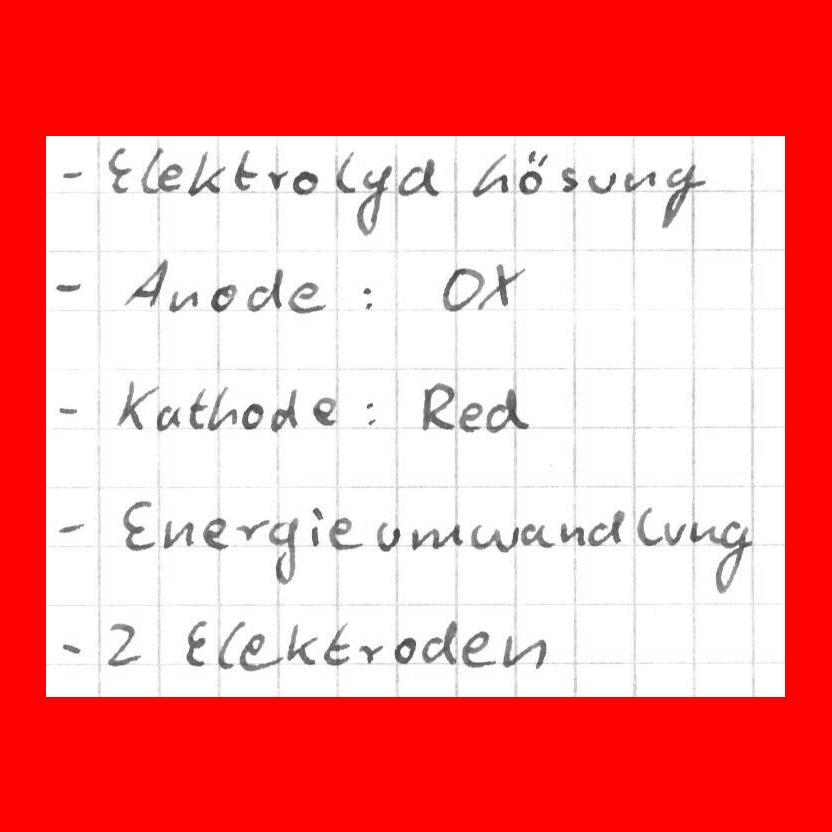Char: (353, 162, 395, 238), (658, 165, 705, 229), (712, 520, 751, 596), (475, 260, 527, 312), (265, 517, 299, 585), (481, 387, 532, 432), (439, 264, 485, 313), (124, 257, 167, 308), (469, 153, 514, 199), (186, 150, 226, 201), (418, 379, 455, 434), (100, 621, 143, 668), (237, 629, 284, 672), (115, 380, 156, 429), (419, 617, 460, 666), (396, 156, 440, 200), (244, 265, 285, 312), (498, 632, 547, 671), (120, 501, 156, 553), (517, 147, 551, 197), (586, 504, 625, 547), (285, 278, 329, 315), (412, 522, 462, 552), (284, 621, 316, 667), (106, 143, 134, 194), (217, 617, 243, 671), (270, 384, 298, 433), (322, 622, 352, 667), (208, 384, 235, 434), (183, 617, 209, 668), (139, 144, 164, 195), (326, 515, 361, 551), (462, 628, 492, 669), (161, 516, 195, 551), (472, 520, 508, 553), (231, 147, 256, 191), (334, 148, 357, 195), (635, 503, 658, 546), (202, 516, 229, 552), (310, 393, 338, 427), (374, 518, 401, 553), (522, 519, 552, 550), (457, 400, 483, 435), (208, 281, 236, 312), (188, 386, 208, 429), (158, 162, 184, 194), (167, 286, 199, 312), (624, 168, 657, 193), (290, 168, 319, 195), (235, 519, 265, 545), (392, 634, 418, 664), (586, 169, 617, 194), (306, 503, 323, 548), (156, 403, 182, 430), (356, 641, 384, 666), (53, 516, 88, 536), (241, 401, 263, 432), (51, 276, 86, 295), (559, 520, 585, 545), (558, 166, 579, 194), (662, 520, 685, 545), (59, 637, 85, 658), (264, 168, 287, 191), (361, 397, 378, 428), (359, 284, 378, 311), (58, 164, 86, 182), (56, 400, 81, 418)
